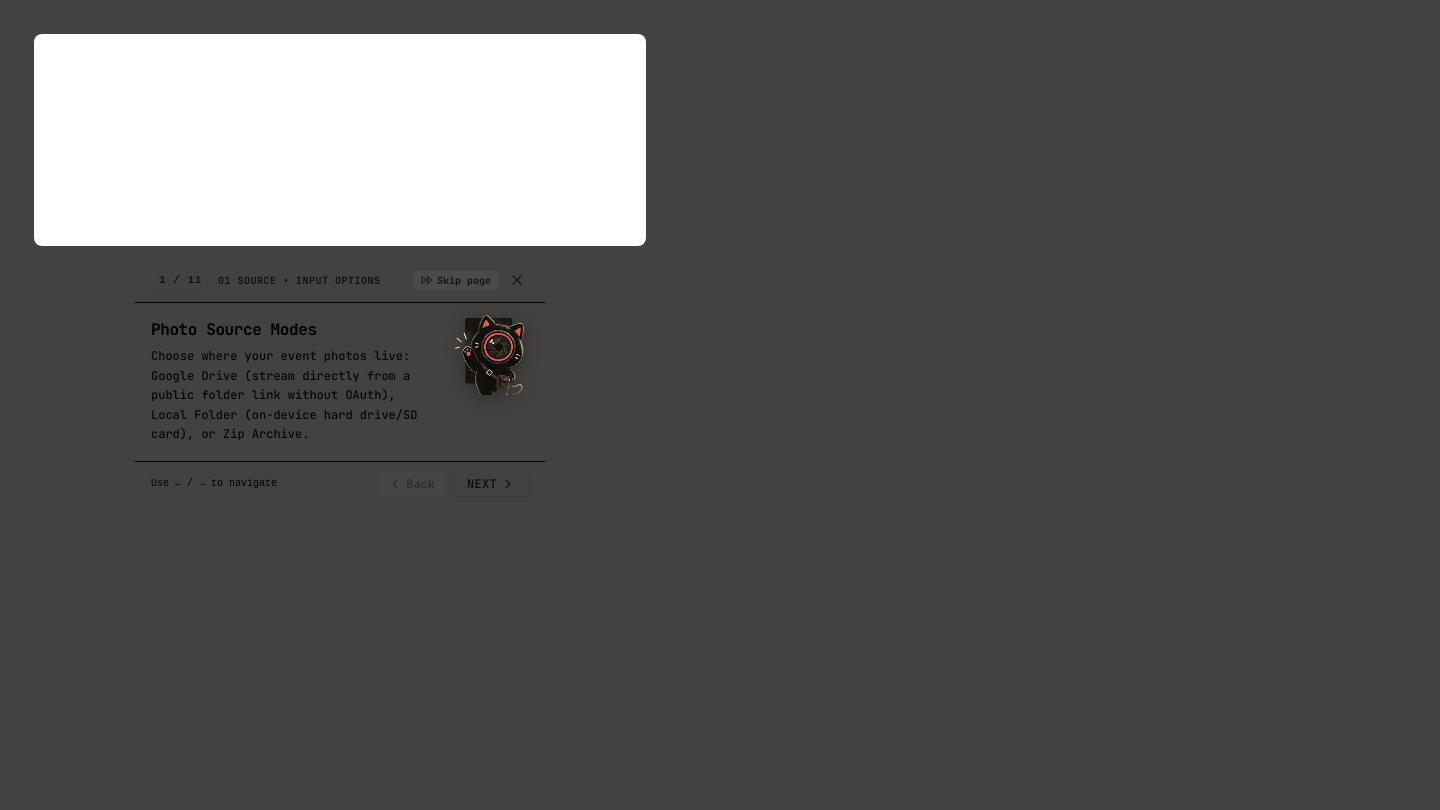
it: TutorialSpotlight - Streamlined Tour with In-Depth Slider Explanations › navigates through steps sequentially and updates tabs, subtabs, and selection
Click the button with test id "tutorial-next-btn": (491, 484) [453, 472, 529, 496]
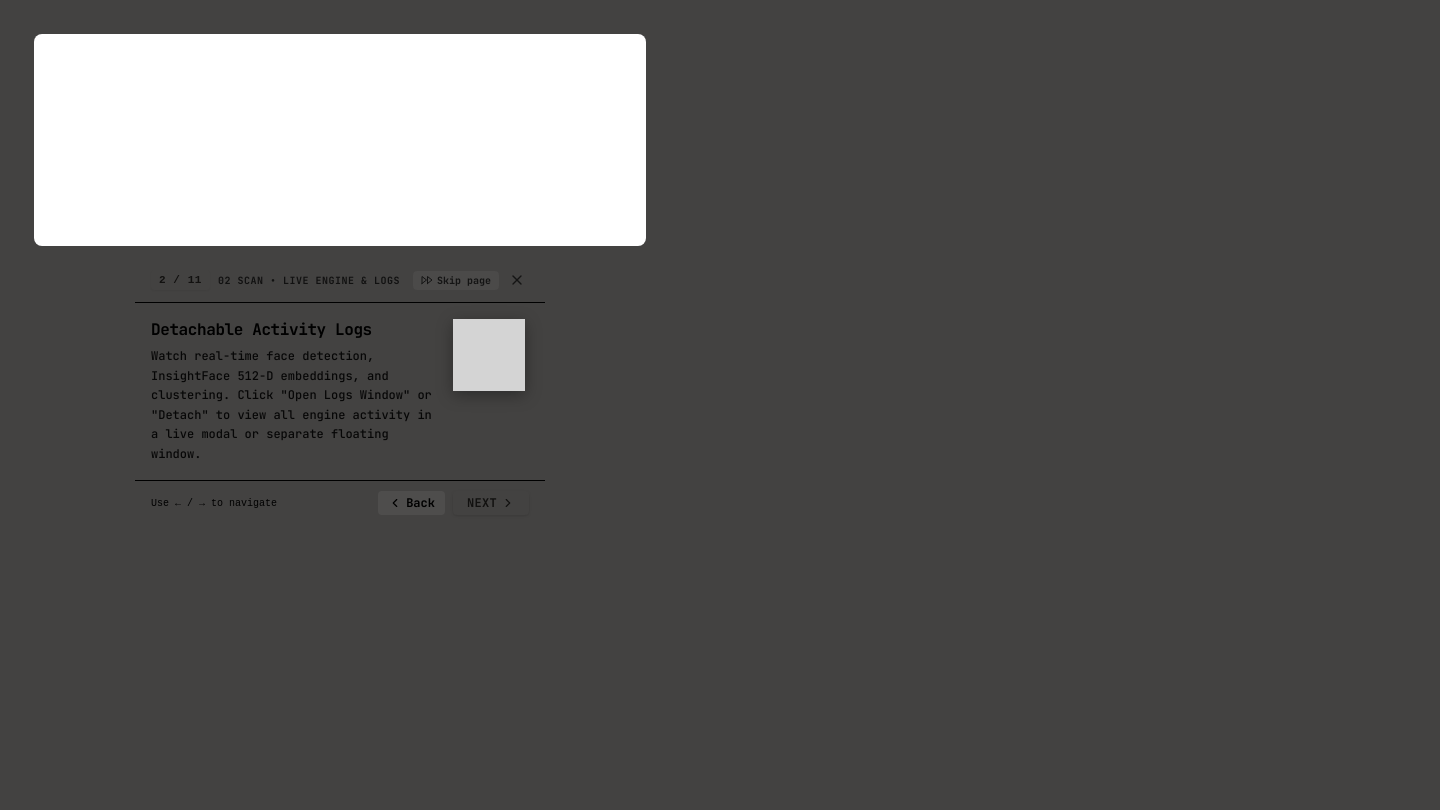
Expected: the text "2 / 11" is shown, [151, 270, 210, 290]
Now the heading "Detachable Activity Logs" is shown, box [151, 319, 372, 340]
Click the button with test id "tutorial-next-btn": (491, 503) [453, 491, 529, 515]
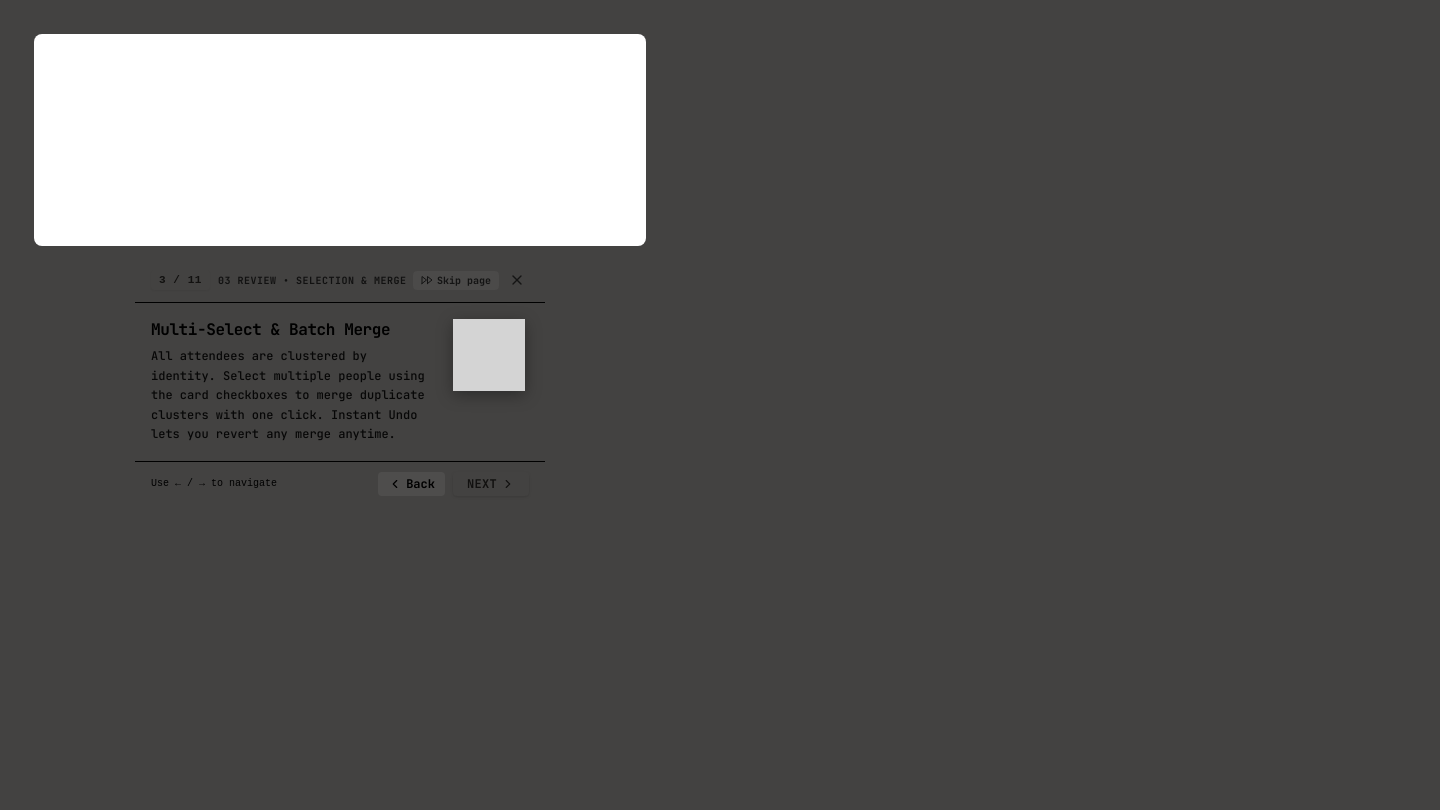
Expected: the text "3 / 11" is shown, [151, 270, 210, 290]
Now the heading "Multi-Select & Batch Merge" is shown, box [151, 319, 390, 340]
Click the button with test id "tutorial-next-btn": (491, 484) [453, 472, 529, 496]
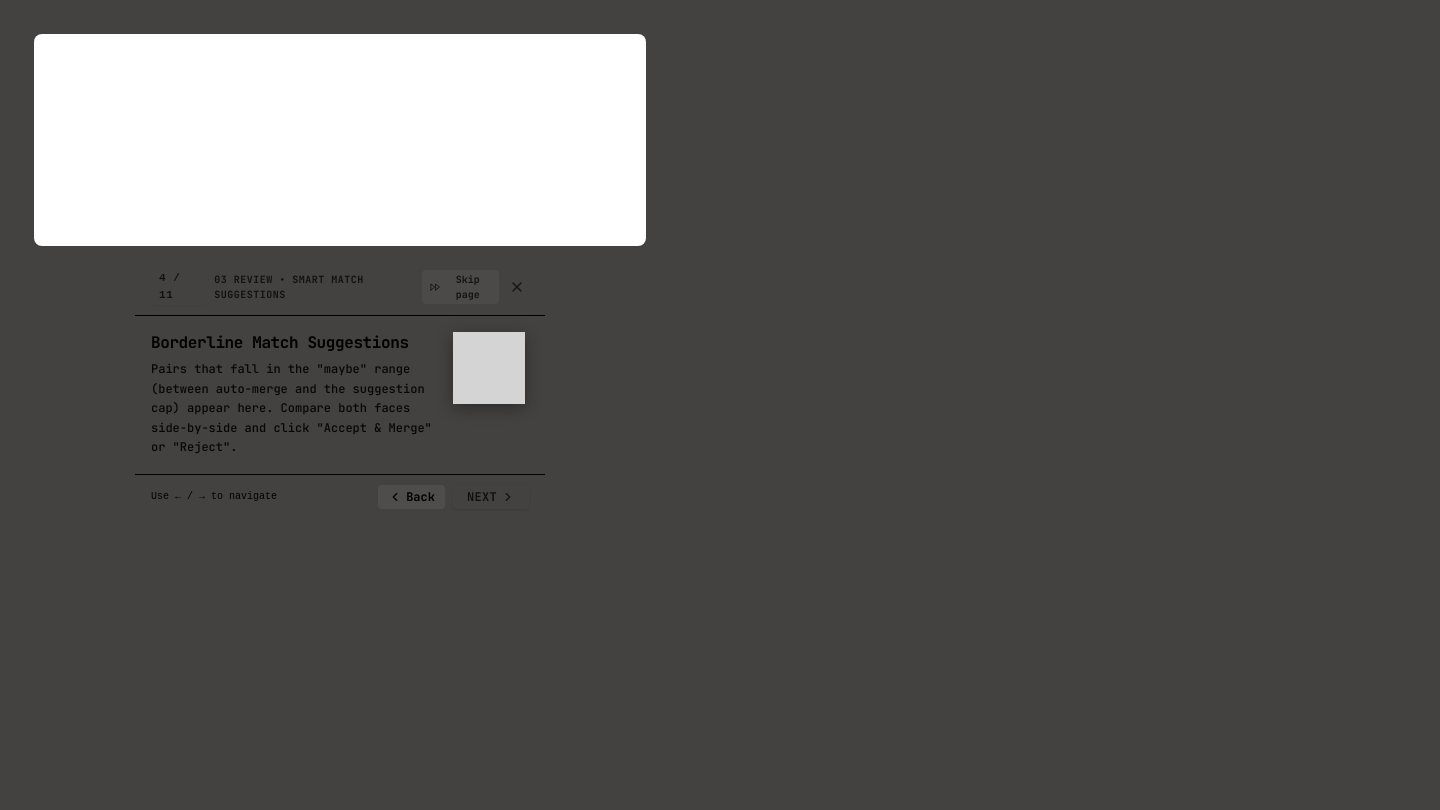
Now the text "4 / 11" is shown, box [151, 268, 206, 305]
Now the heading "Borderline Match Suggestions" is shown, box [151, 332, 435, 354]
Click the button with test id "tutorial-next-btn": (491, 496) [453, 484, 529, 508]
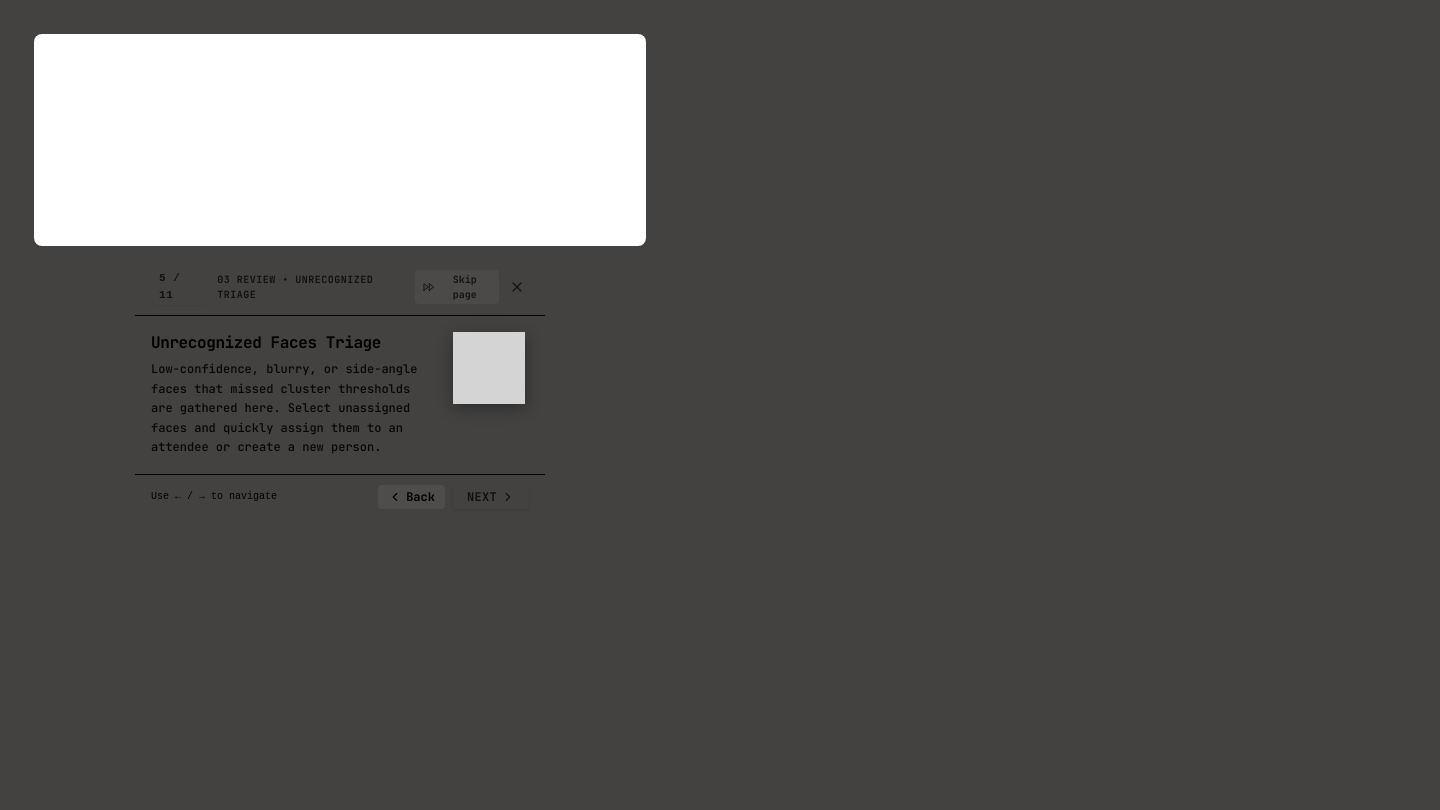
Now the text "5 / 11" is shown, box [151, 268, 209, 305]
Now the heading "Unrecognized Faces Triage" is shown, box [151, 332, 381, 353]
Click the button with test id "tutorial-next-btn": (491, 496) [453, 484, 529, 508]
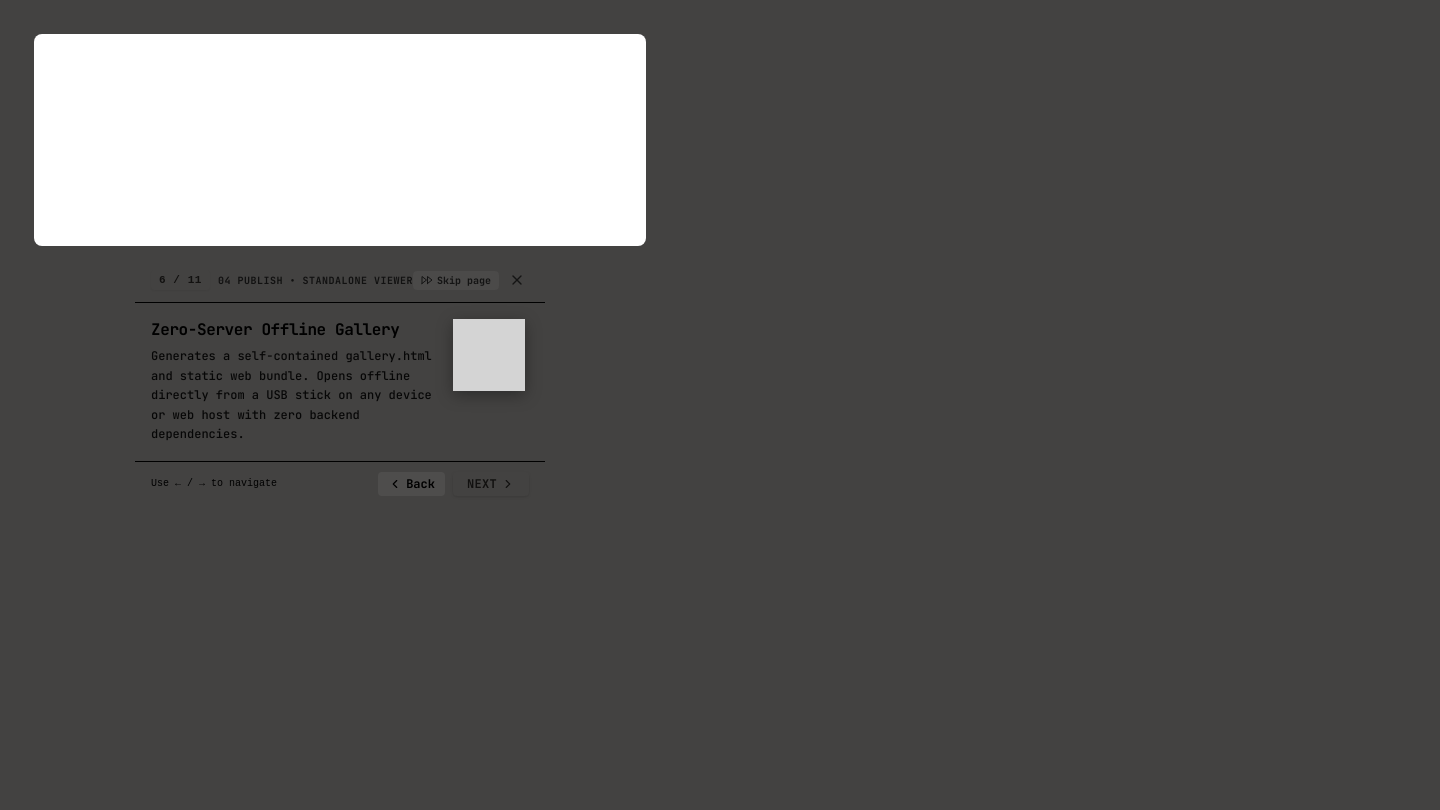
Now the text "6 / 11" is shown, box [151, 270, 210, 290]
Now the heading "Zero-Server Offline Gallery" is shown, box [151, 319, 435, 341]
